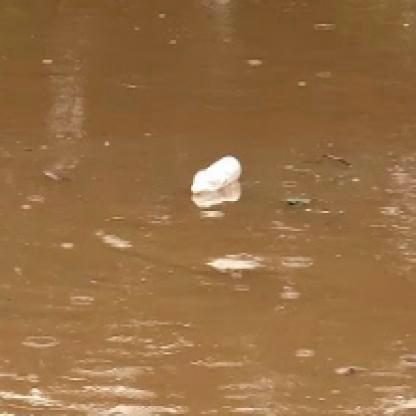Plastic: (188, 154, 245, 199)
